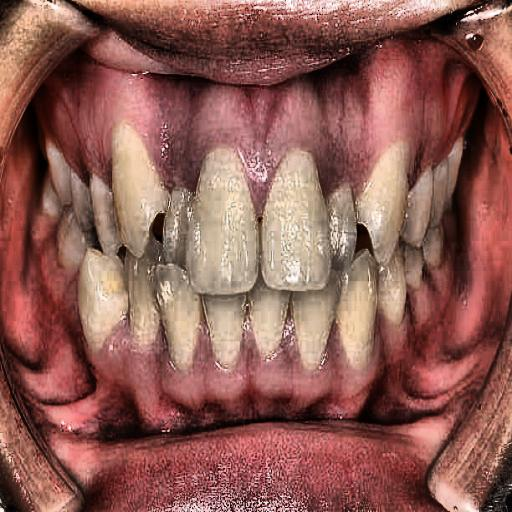Gingivitis: (63, 61, 451, 180)
